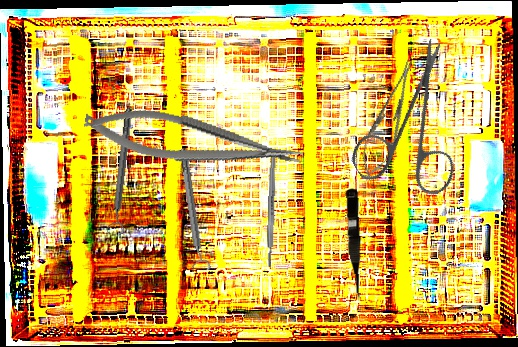Fixation Ring: (104, 107, 140, 237), (174, 147, 211, 273)
Iris Scissors: (318, 36, 505, 223)
Micro Scissor: (343, 187, 364, 304)
Needle Holder: (80, 94, 306, 189), (353, 54, 425, 184)
Scalpel Handle: (266, 153, 277, 268)
